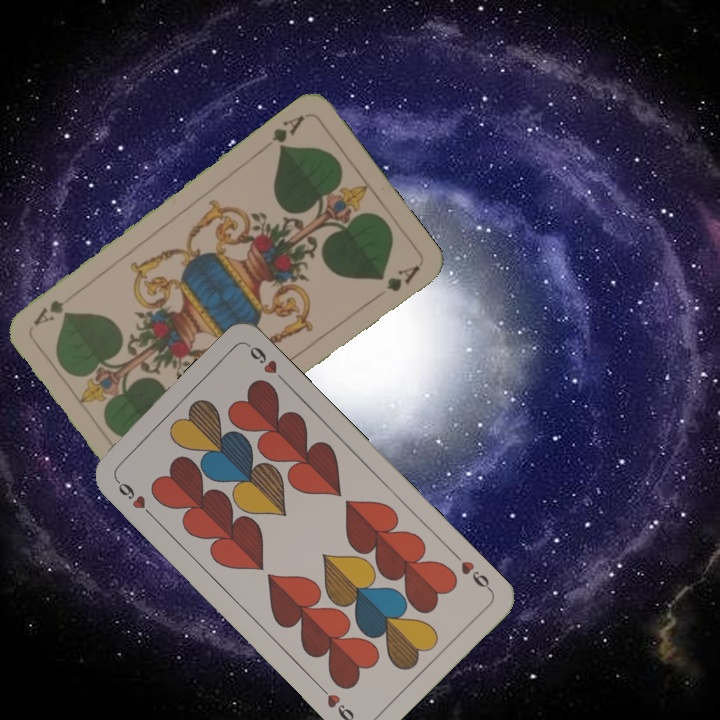GA: (267, 111, 307, 153)
H9: (449, 548, 495, 595), (111, 474, 157, 521)
